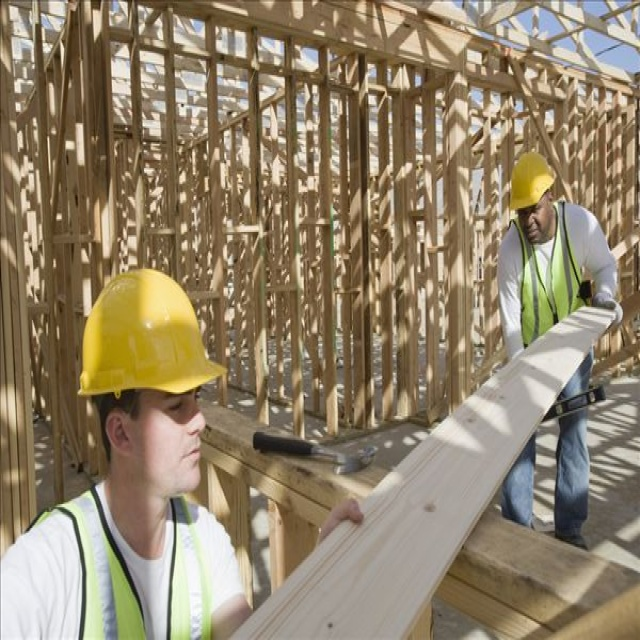Helmet: (63, 253, 240, 512), (506, 145, 563, 254)
Reflective vest: (35, 480, 218, 640), (505, 210, 587, 349)
